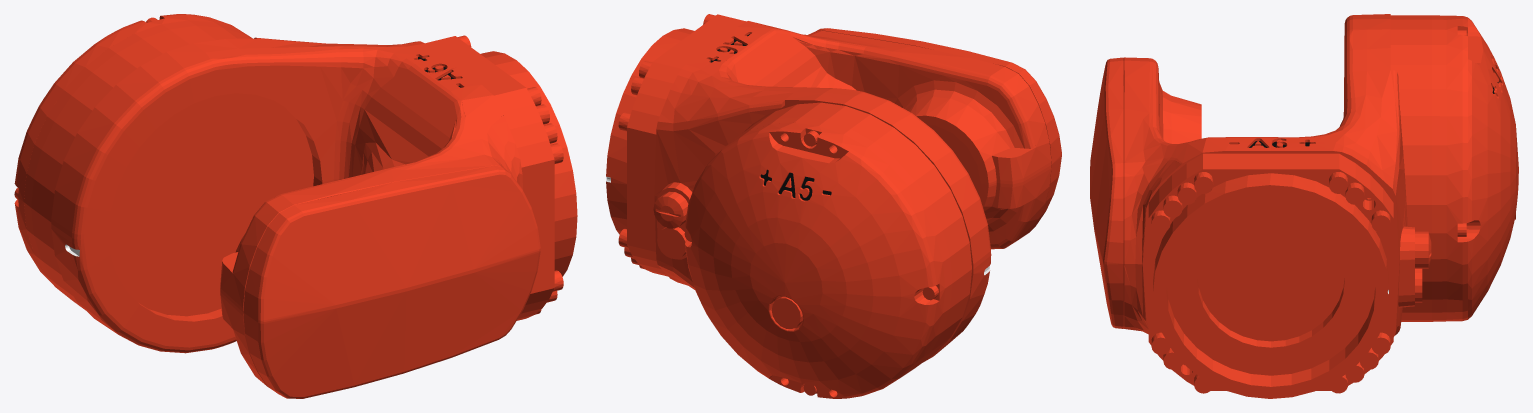
3 renders of one model, left to right at view 1: azimuth 30°, elevation 25°; view 2: azimuth 150°, elevation 25°; view 3: azimuth 270°, elevation 25°, orthographic. The views are drawn at different scales.
Parts seen in each view (by area): view 1: link_5; view 2: link_5; view 3: link_5.
Boxes of the visible parts, x1,y1,x2,y2 form: link_5: (14,14,577,398); link_5: (606,14,1061,398); link_5: (1090,14,1518,398).
Bounding box in the file's own units: 0.3031 × 0.2907 × 0.21.
